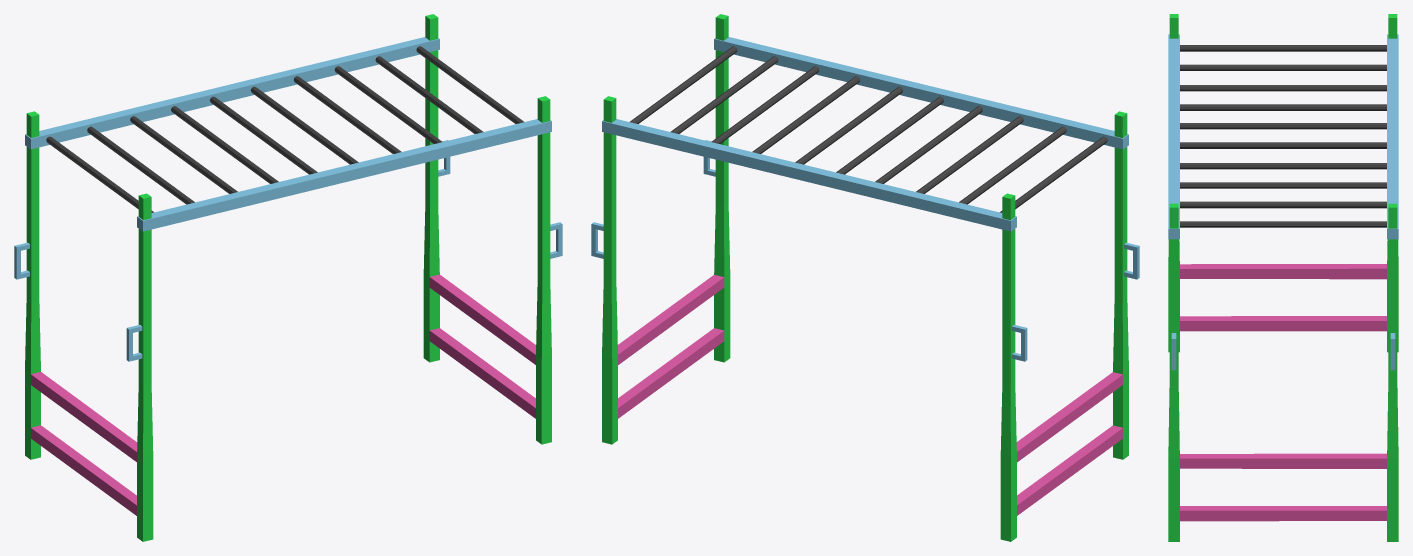
File: Monkey Bars.fbx
3 renders of one model, left to right at view 1: azimuth 30°, elevation 25°; view 2: azimuth 150°, elevation 25°; view 3: azimuth 270°, elevation 25°, orthographic. The views are drawn at different scales.
Visible parts, largest first — view 1: Monkey Bars; view 2: Monkey Bars; view 3: Monkey Bars.
Boxes of the visible parts, x1,y1,x2,y2 form: Monkey Bars: (14,14,562,541); Monkey Bars: (591,14,1139,541); Monkey Bars: (1168,14,1398,541).
Bounding box in the file's own units: 339 × 256 × 160.
